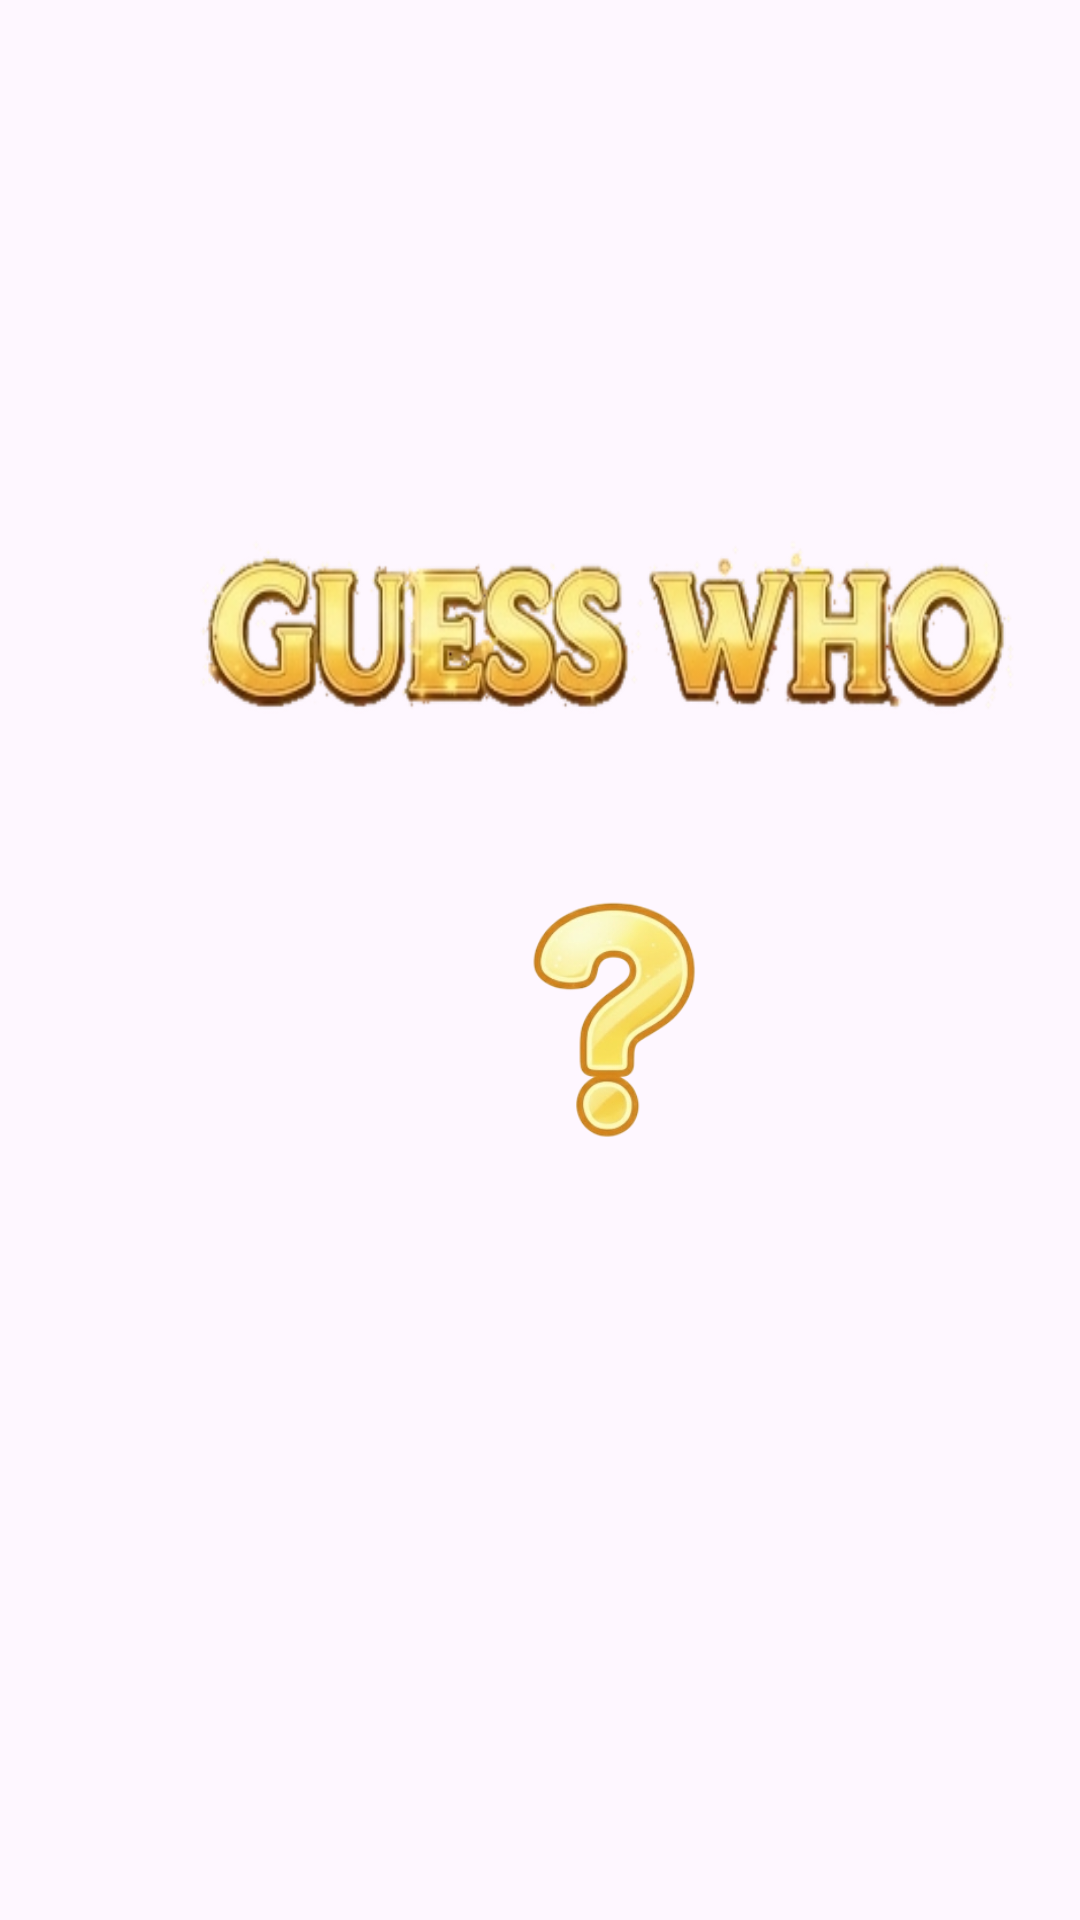

Named icons in this screenshot (1080 x 1920) and their bounding boxes, (x1, y1, x2, y2):
question mark: (533, 902, 695, 1137)
